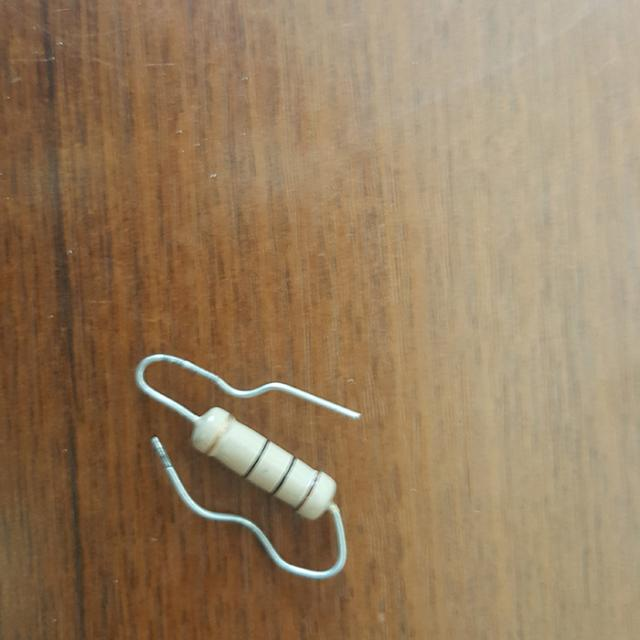black: (242, 442, 269, 479), (270, 457, 294, 496)
brown: (295, 474, 321, 509)
gold: (207, 416, 232, 453)
resistor: (177, 398, 348, 535)
